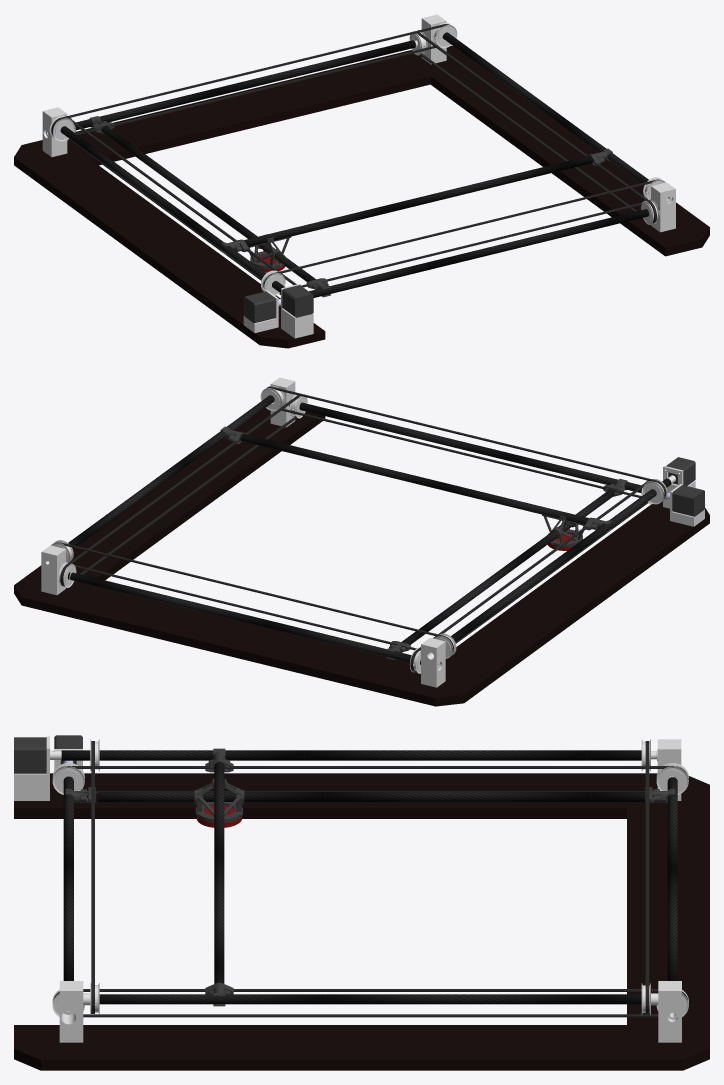
Rendered from 230322_NeueAirhockeyKinematik 1.fbx.
3 renders of one model, top to bottom at view 1: azimuth 30°, elevation 25°; view 2: azimuth 150°, elevation 25°; view 3: azimuth 270°, elevation 25°, orthographic. The views are drawn at different scales.
Parts seen in each view (by area): view 1: Brett03, Brett02, Brett01, FuehrungsstangeQuer.002, FuehrungsstangeQuer.001, FuehrungsstangeQuer.003, RIEMEN2.001, RIEMEN2.004, FuehrungsstangeQuer.005, FuehrungsstangeQuer.004, FuehrungsstangeQuer.006, RIEMEN2.003 (+8 smaller); view 2: Brett03, Brett02, Brett01, FuehrungsstangeQuer.002, FuehrungsstangeQuer.003, FuehrungsstangeQuer.001, RIEMEN2.004, RIEMEN2.001, FuehrungsstangeQuer.005, FuehrungsstangeQuer.004, FuehrungsstangeQuer.006, RIEMEN2.003 (+7 smaller); view 3: Brett01, Brett03, Brett02, FuehrungsstangeQuer.005, FuehrungsstangeQuer.004, FuehrungsstangeQuer.006, RIEMEN2.003, FuehrungsstangeQuer.002, RIEMEN2.002, FuehrungsstangeQuer.001, FuehrungsstangeQuer.003, Lagerbock05 (+9 smaller).
Part boxes in pixels (x1,y1,x2,y2): Brett03: (14, 140, 325, 348); Brett02: (67, 53, 430, 165); Brett01: (399, 45, 709, 256); FuehrungsstangeQuer.002: (240, 155, 597, 246); FuehrungsstangeQuer.001: (279, 206, 659, 298); FuehrungsstangeQuer.003: (75, 39, 416, 130); RIEMEN2.001: (51, 24, 449, 135); RIEMEN2.004: (263, 179, 659, 288); FuehrungsstangeQuer.005: (60, 126, 284, 293); FuehrungsstangeQuer.004: (442, 32, 648, 185); FuehrungsstangeQuer.006: (101, 126, 315, 282); RIEMEN2.003: (417, 32, 656, 223); Brett03: (398, 501, 709, 706); Brett02: (58, 584, 419, 697); Brett01: (14, 408, 325, 614); FuehrungsstangeQuer.002: (239, 433, 593, 524); FuehrungsstangeQuer.003: (67, 572, 420, 664); FuehrungsstangeQuer.001: (289, 400, 668, 499); RIEMEN2.004: (267, 386, 666, 498); RIEMEN2.001: (57, 542, 453, 651); FuehrungsstangeQuer.005: (451, 478, 671, 642); FuehrungsstangeQuer.004: (68, 395, 274, 548); FuehrungsstangeQuer.006: (401, 489, 614, 644); RIEMEN2.003: (60, 395, 299, 586); Brett01: (14, 1025, 709, 1070); Brett03: (14, 773, 709, 818); Brett02: (627, 808, 709, 1024); FuehrungsstangeQuer.005: (61, 750, 641, 760); FuehrungsstangeQuer.004: (99, 994, 641, 1004); FuehrungsstangeQuer.006: (98, 792, 645, 801); RIEMEN2.003: (54, 989, 688, 1017); FuehrungsstangeQuer.002: (214, 762, 224, 983); RIEMEN2.002: (56, 766, 687, 794); FuehrungsstangeQuer.001: (63, 776, 73, 980); FuehrungsstangeQuer.003: (667, 776, 677, 980); Lagerbock05: (59, 981, 83, 1042).
Size of the model in its own units: 1006 by 106 by 1032.
